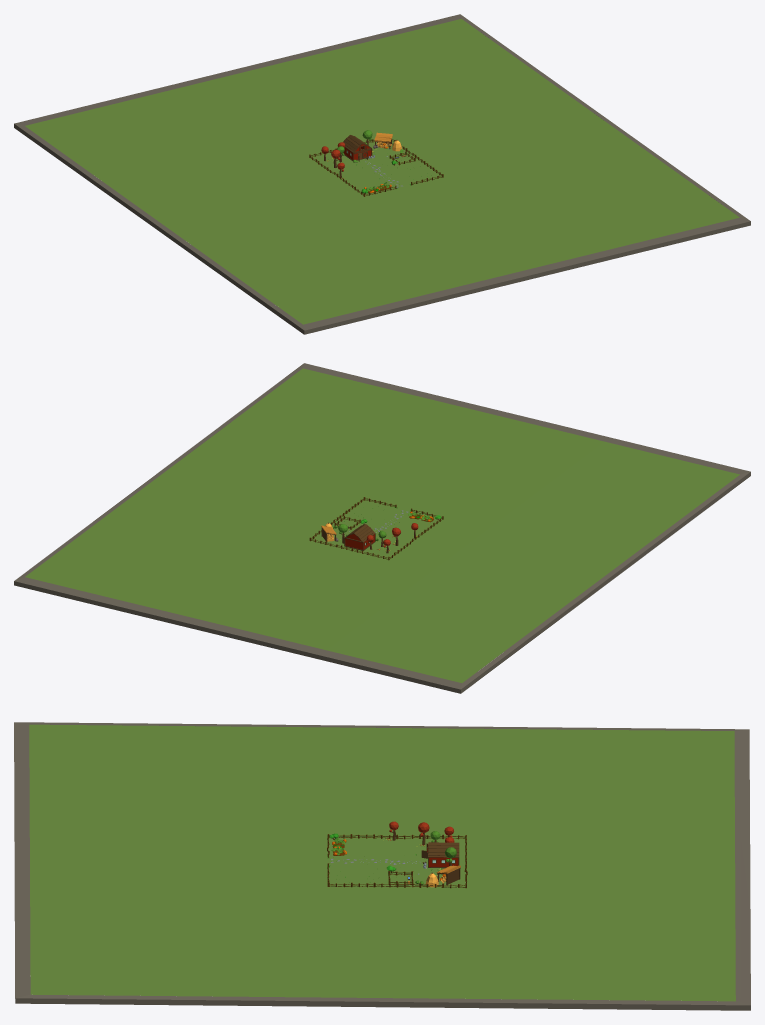
Rendered from ground.glb.
3 views of the same model, one above another, from view 1: azimuth 30°, elevation 25°; view 2: azimuth 150°, elevation 25°; view 3: azimuth 270°, elevation 25° (orthographic). The views are drawn at different scales.
Visible parts, largest first — view 1: terrain, ambar; view 2: terrain, ambar; view 3: terrain, ambar.
Boxes of the visible parts, bbox=[...] form: terrain: bbox=[14, 14, 750, 334]; ambar: bbox=[342, 135, 372, 161]; terrain: bbox=[14, 363, 750, 693]; ambar: bbox=[344, 524, 375, 550]; terrain: bbox=[14, 722, 750, 1010]; ambar: bbox=[421, 842, 459, 868].
Bounding box in the file's own units: 187 × 10.44 × 211.
